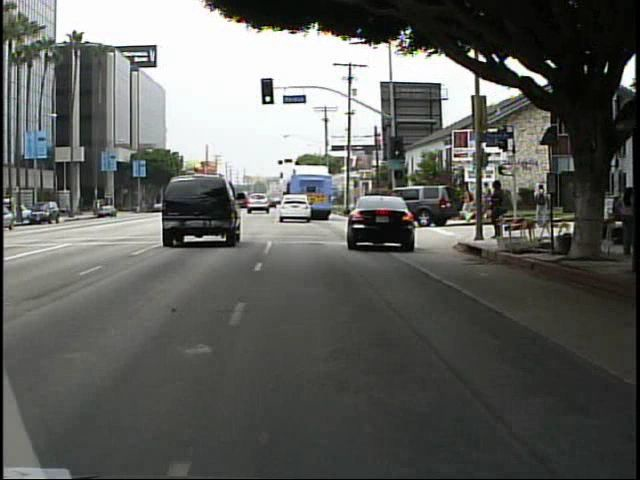person: (486, 175, 508, 245), (458, 181, 477, 227), (533, 181, 550, 224)
